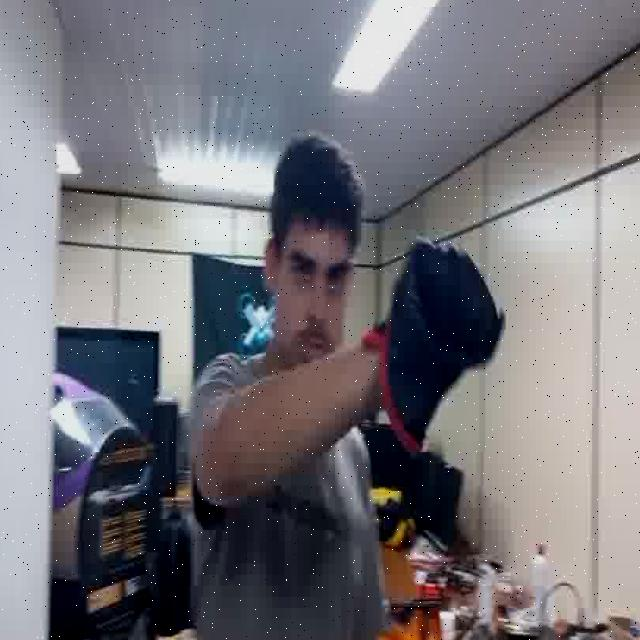Gloves: (363, 219, 490, 448)
